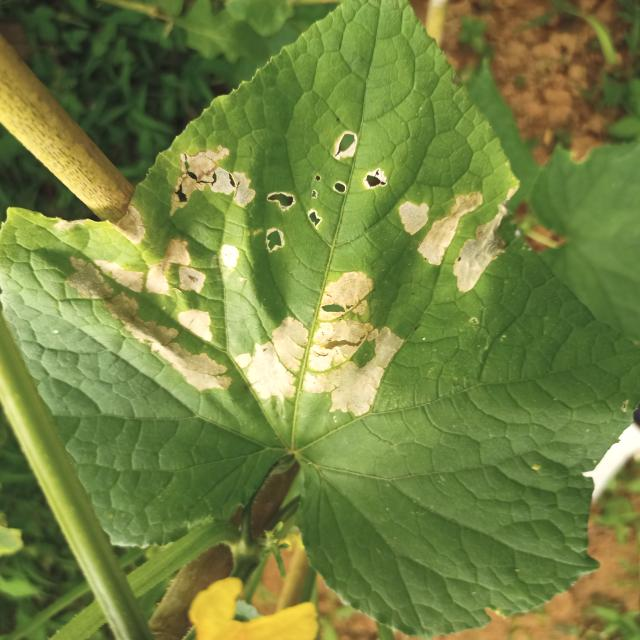disease_cucumber: (61, 136, 513, 419)
